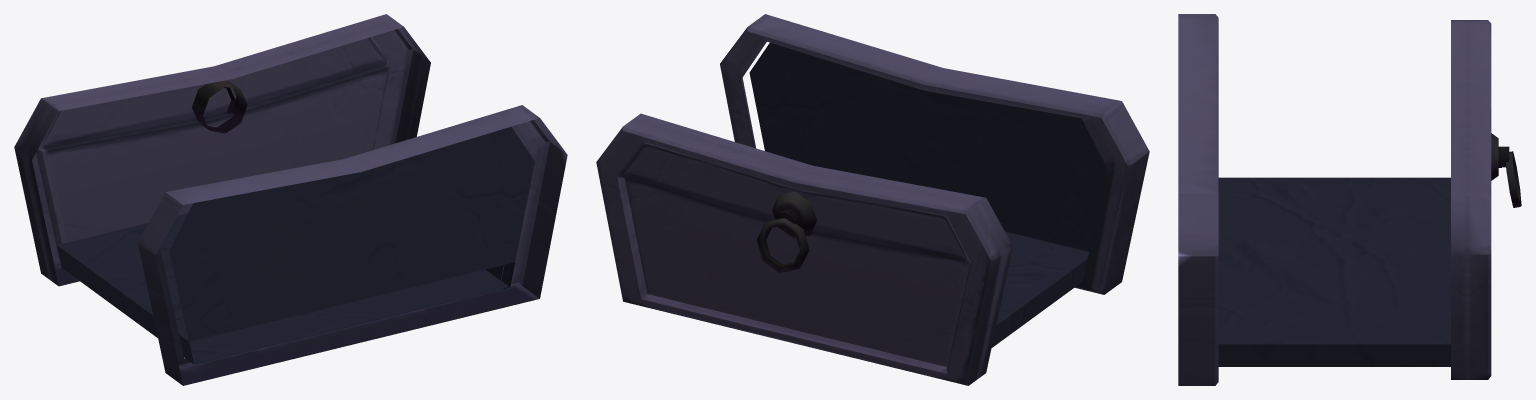
File: MOD_SmallDrawerOpen_Block.fbx
3 renders of one model, left to right at view 1: azimuth 30°, elevation 25°; view 2: azimuth 150°, elevation 25°; view 3: azimuth 270°, elevation 25°, orthographic. The views are drawn at different scales.
Visible parts, largest first — view 1: MOD_SmallDrawerOpen_Block; view 2: MOD_SmallDrawerOpen_Block; view 3: MOD_SmallDrawerOpen_Block.
Part boxes in pixels (box(x1,y1,x2,y2)): MOD_SmallDrawerOpen_Block: box(14, 14, 567, 385); MOD_SmallDrawerOpen_Block: box(596, 14, 1149, 385); MOD_SmallDrawerOpen_Block: box(1178, 14, 1521, 385).
Size of the model in its own units: 47.69 by 20.01 by 32.83.
1 material, 1 textured.
